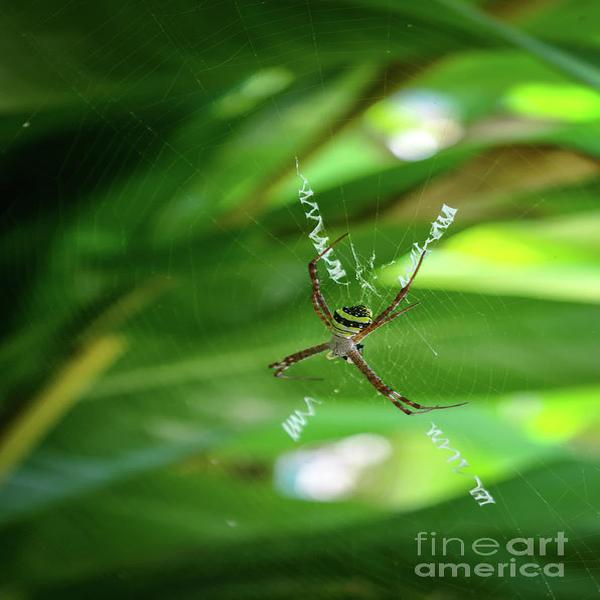St Andrew's Cross Spider: (275, 237, 472, 420)
